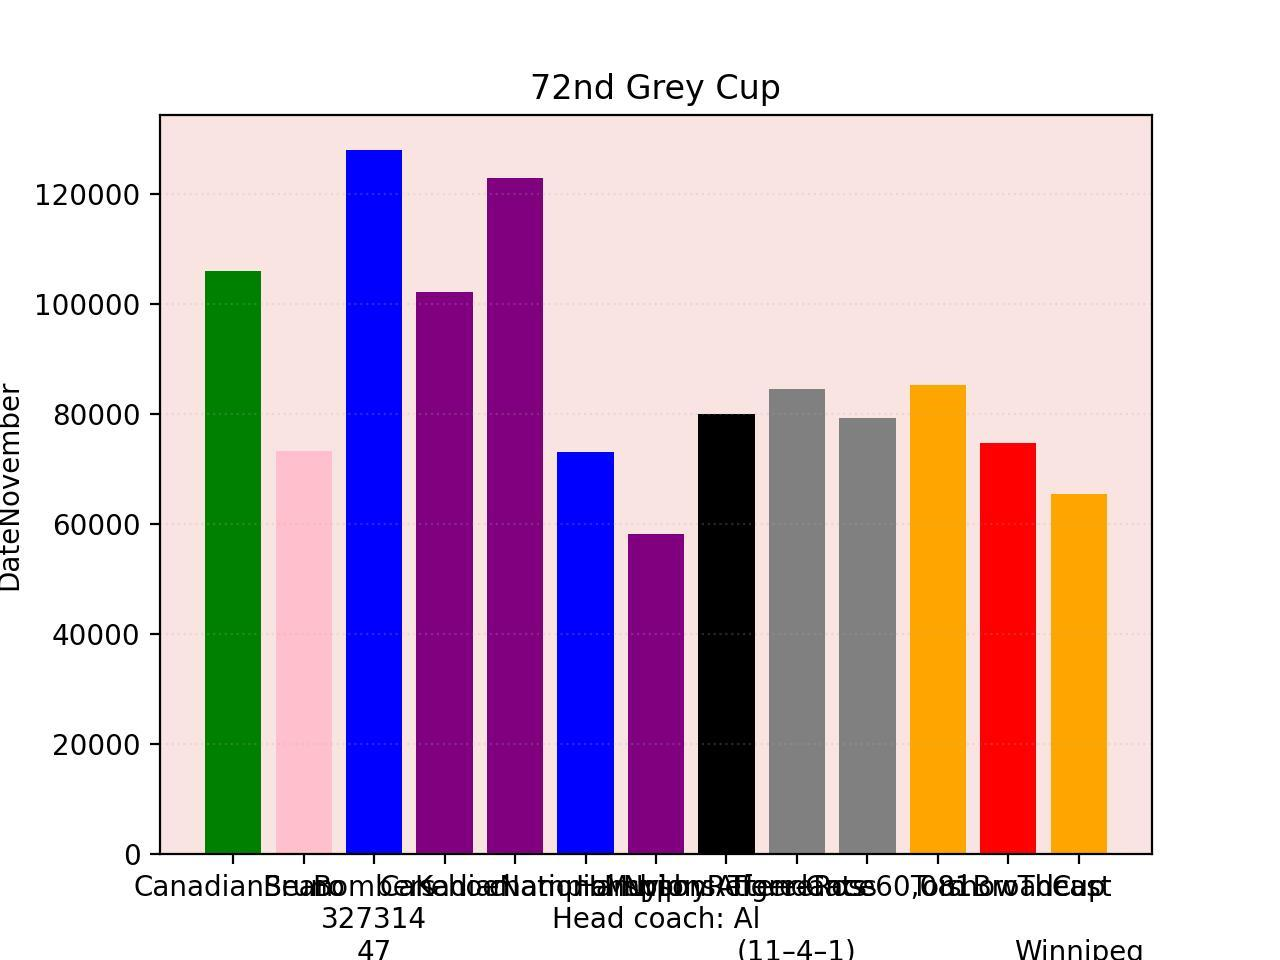axis: (0, 184, 141, 871)
rectangle: (346, 150, 402, 854), (487, 178, 543, 854), (206, 270, 261, 854), (416, 292, 473, 854), (769, 389, 825, 854), (910, 385, 966, 854), (698, 414, 755, 854), (840, 418, 896, 854), (981, 443, 1036, 854), (275, 452, 332, 854), (557, 452, 614, 854), (1050, 493, 1107, 854), (628, 533, 684, 854)
